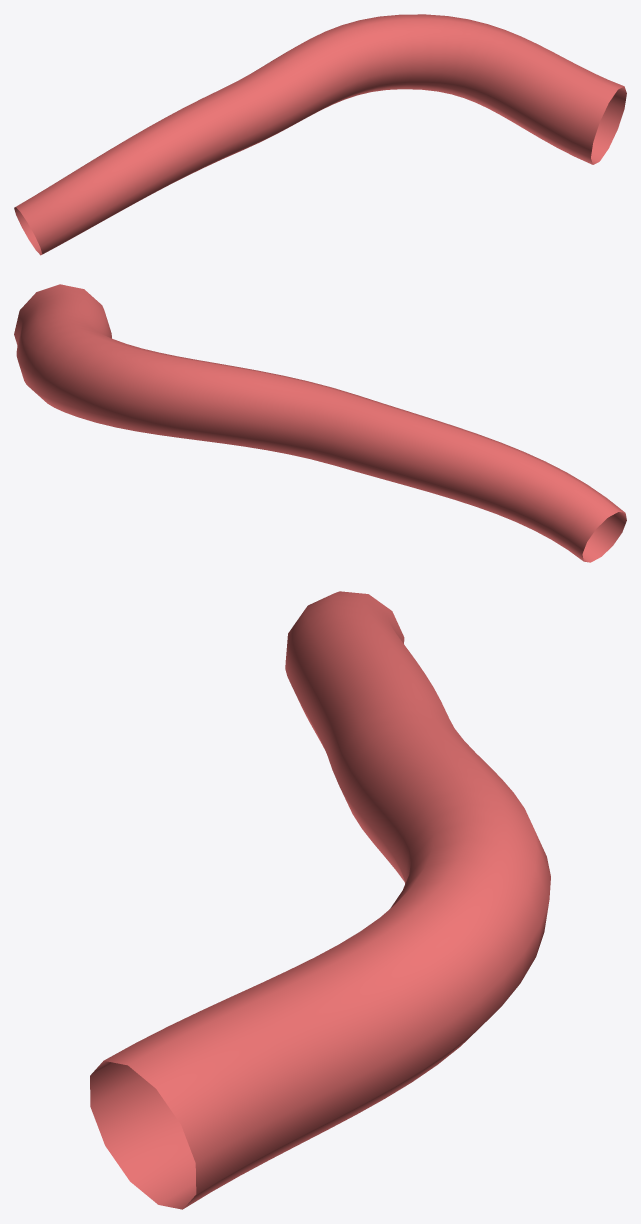
File: Right_subclavian_artery.glb
3 views of the same model, one above another, from view 1: azimuth 30°, elevation 25°; view 2: azimuth 150°, elevation 25°; view 3: azimuth 270°, elevation 25° (orthographic). The views are drawn at different scales.
Parts seen in each view (by area): view 1: Right_subclavian_artery_BezierCurve.360; view 2: Right_subclavian_artery_BezierCurve.360; view 3: Right_subclavian_artery_BezierCurve.360.
Boxes of the visible parts, x1,y1,x2,y2 form: Right_subclavian_artery_BezierCurve.360: (14,14,626,255); Right_subclavian_artery_BezierCurve.360: (14,284,626,562); Right_subclavian_artery_BezierCurve.360: (90,591,550,1209).
Bounding box in the file's own units: 0.0695 × 0.0137 × 0.0245.
